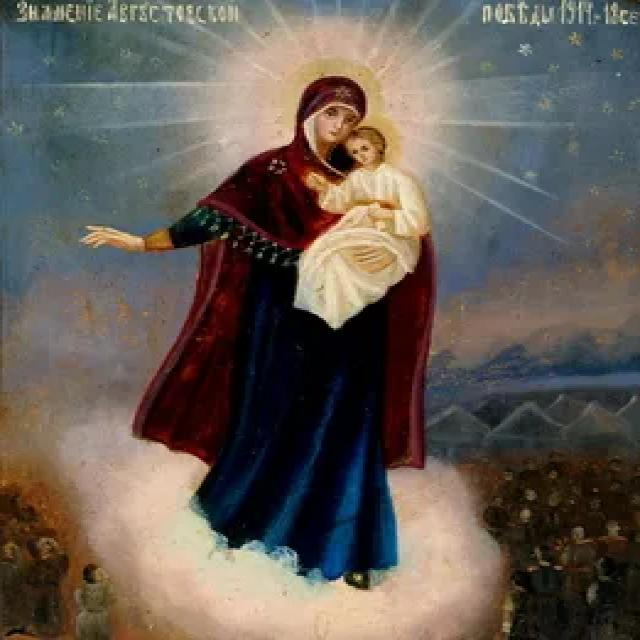mother of god: (44, 68, 488, 604)
